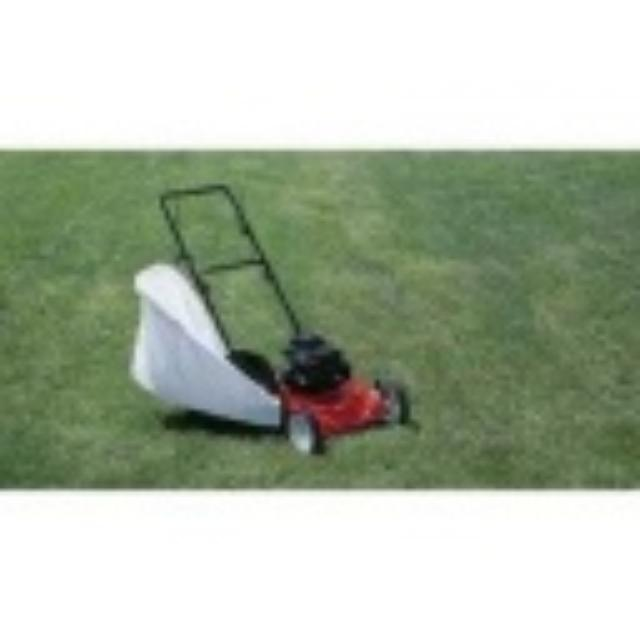Rotary-Mower: (125, 180, 415, 456)
